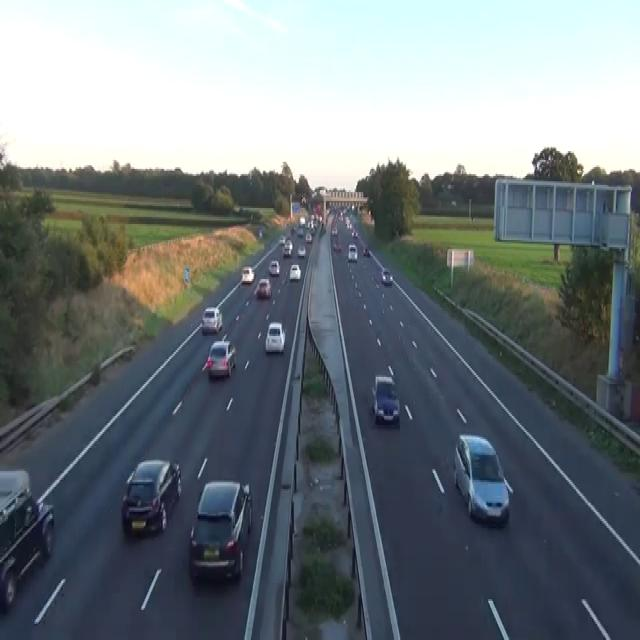Car: (188, 480, 252, 583), (453, 434, 512, 524), (121, 459, 181, 535), (371, 373, 400, 423), (206, 339, 236, 377), (265, 322, 285, 352), (201, 306, 222, 334), (255, 277, 271, 299), (241, 265, 254, 283), (289, 263, 301, 281), (381, 268, 393, 284), (268, 260, 280, 276), (347, 244, 357, 262), (282, 240, 293, 256), (297, 244, 306, 258), (332, 240, 341, 252), (362, 245, 370, 256), (305, 231, 312, 242), (279, 235, 286, 245), (299, 215, 305, 226), (297, 226, 303, 236), (300, 194, 306, 204), (351, 230, 358, 238), (306, 218, 311, 228), (346, 218, 351, 228), (331, 226, 337, 234), (291, 224, 296, 233), (258, 228, 262, 238), (451, 199, 456, 206)
Truck: (0, 468, 54, 612)
